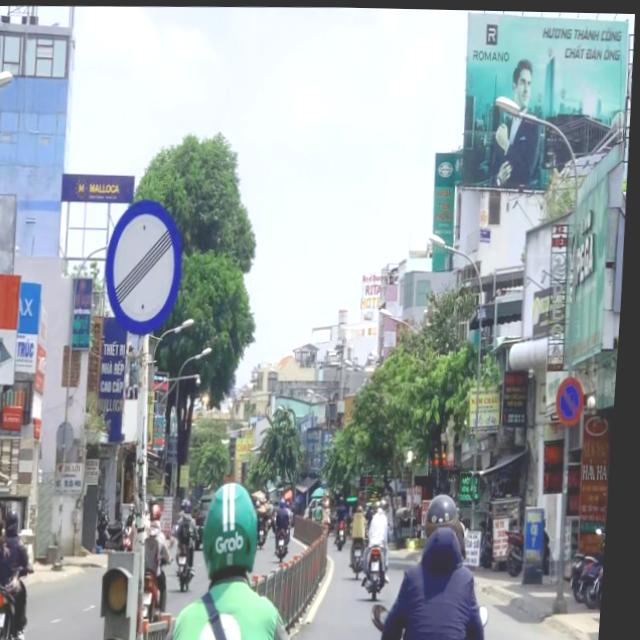Cam do xe: (559, 374, 589, 423)
